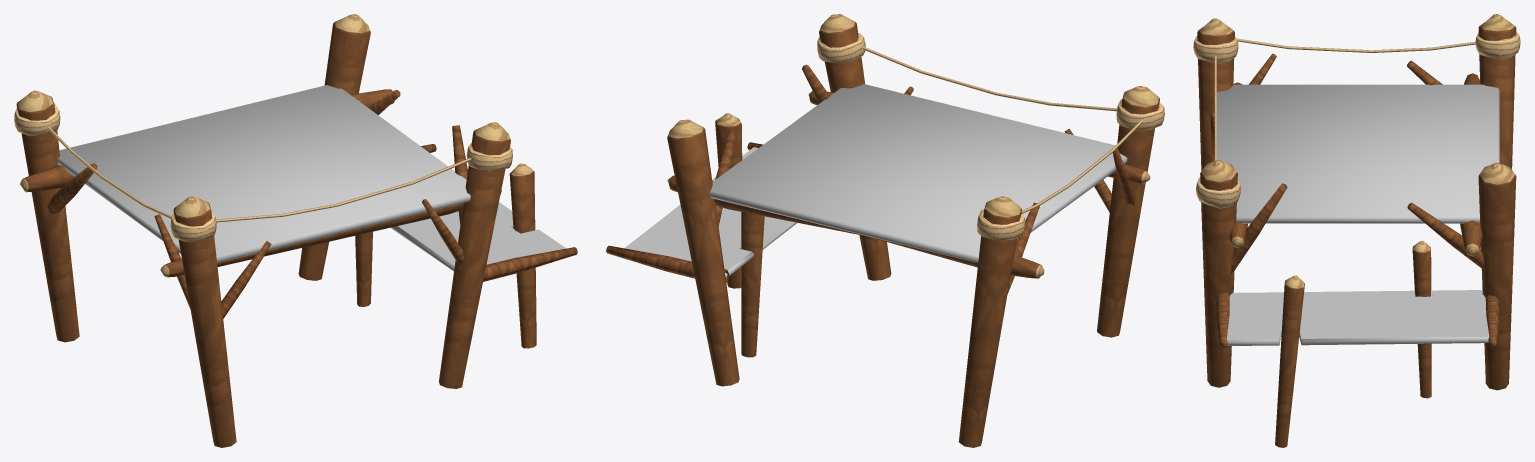
File: Platform5.fbx
3 views of the same model, side by side, from view 1: azimuth 30°, elevation 25°; view 2: azimuth 150°, elevation 25°; view 3: azimuth 270°, elevation 25° (orthographic). The views are drawn at different scales.
Parts seen in each view (by area): view 1: polySurface1157; view 2: polySurface1157; view 3: polySurface1157.
Part boxes in pixels (left/top/right/bottom): polySurface1157: left=14, top=14, right=577, bottom=447; polySurface1157: left=606, top=14, right=1164, bottom=447; polySurface1157: left=1193, top=14, right=1520, bottom=447.
Bounding box in the file's own units: 70.26 × 41.97 × 49.33.
